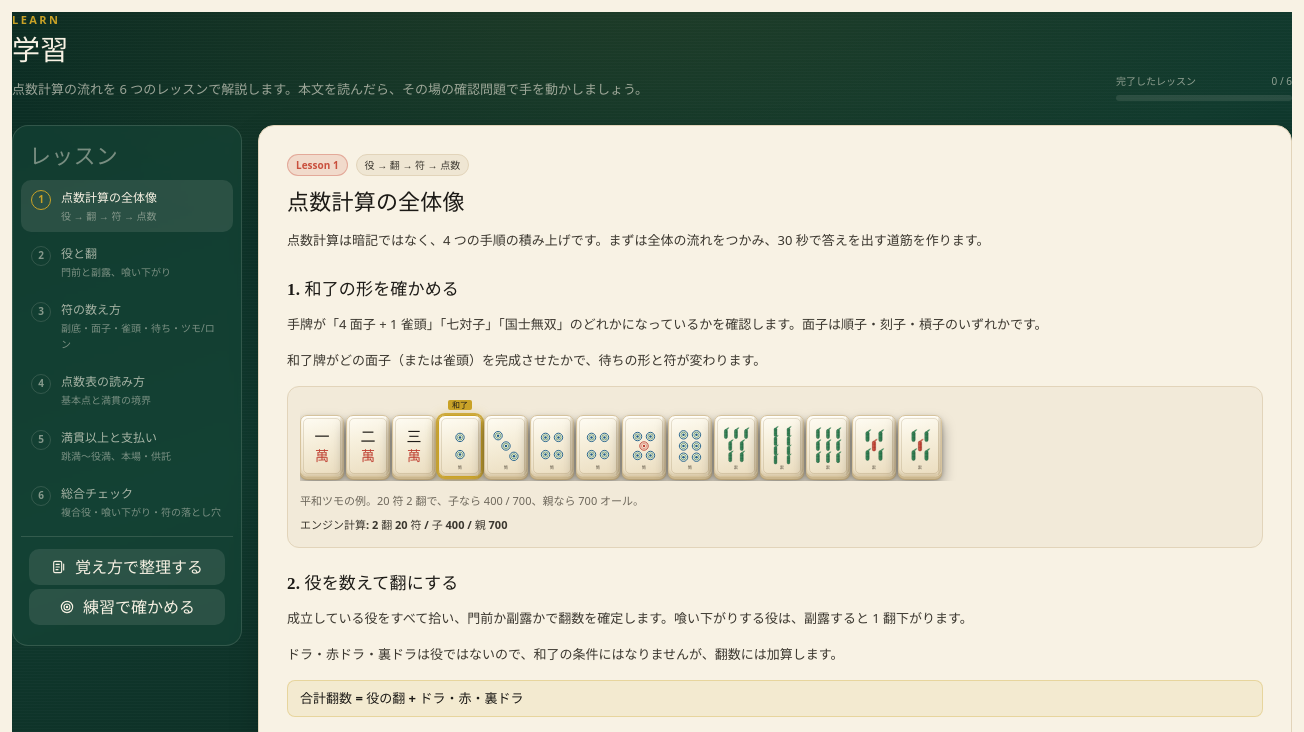
Test: 学習 › レッスンを切り替えると本文が変わる
Click the button "2 役と翻 門前と副露、喰い下がり": (127, 262) [21,236,233,288]
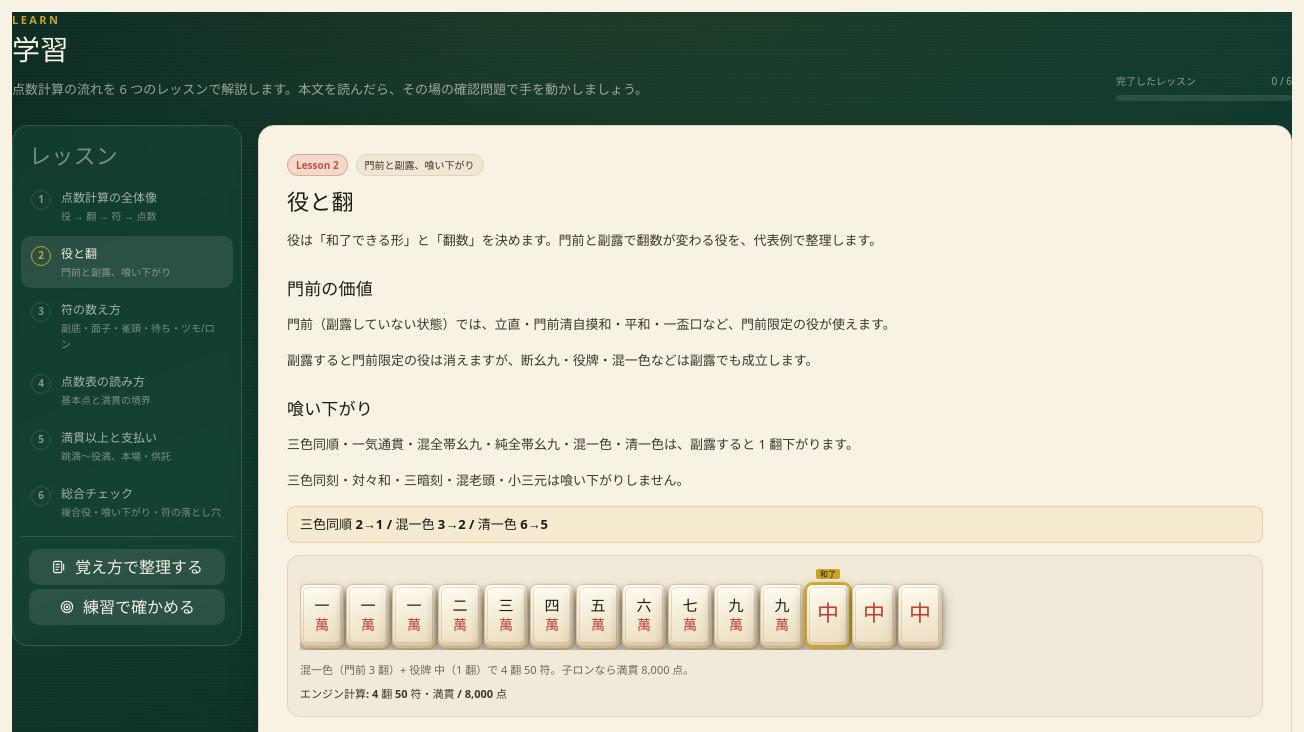
expect the heading "役と翻" is shown: met, box [287,190,354,214]
expect the heading "喰い下がり" is shown: met, box [287,400,373,418]
